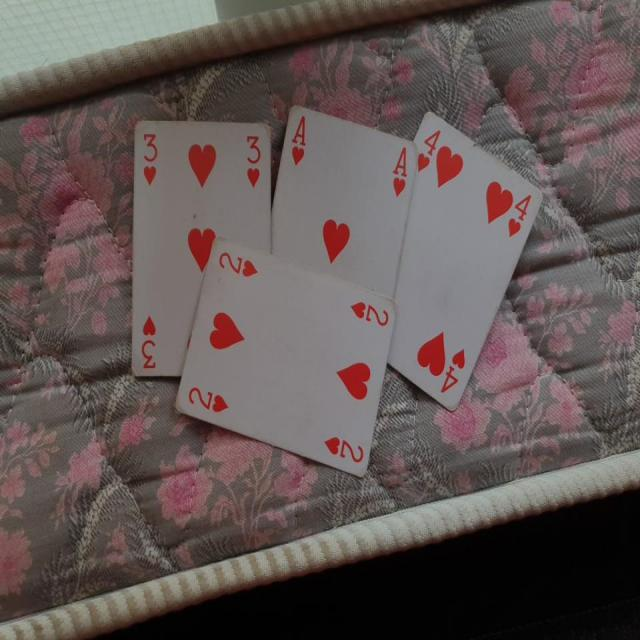2 Hearts: (173, 230, 400, 489)
3 Hearts: (129, 116, 273, 375)
4 Hearts: (384, 102, 552, 426)
A Hearts: (271, 100, 418, 396)
